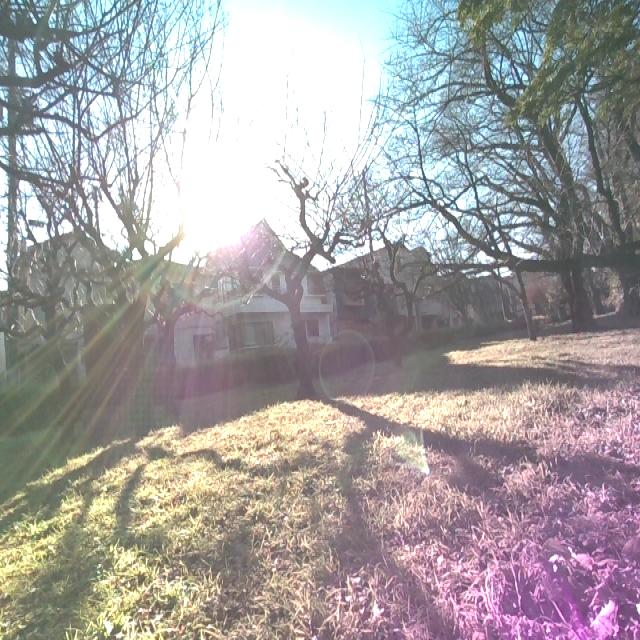artifact: (1, 224, 222, 386), (205, 216, 348, 357), (333, 230, 522, 334)
tree: (0, 0, 198, 411), (417, 2, 640, 322), (393, 110, 601, 337), (219, 132, 364, 412)
